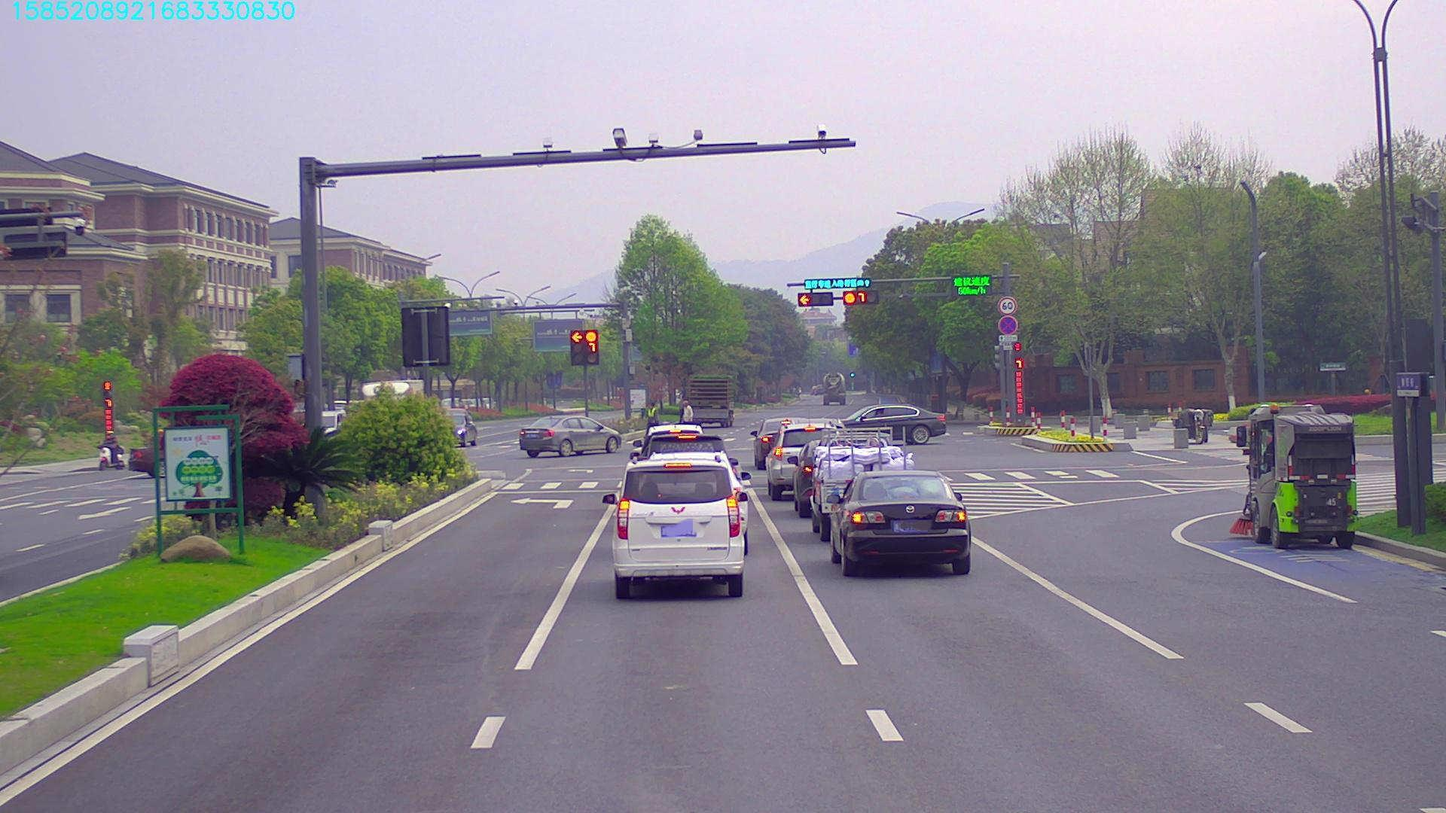red: (795, 290, 828, 306), (842, 291, 875, 304)
wait_on: (802, 279, 870, 290)
